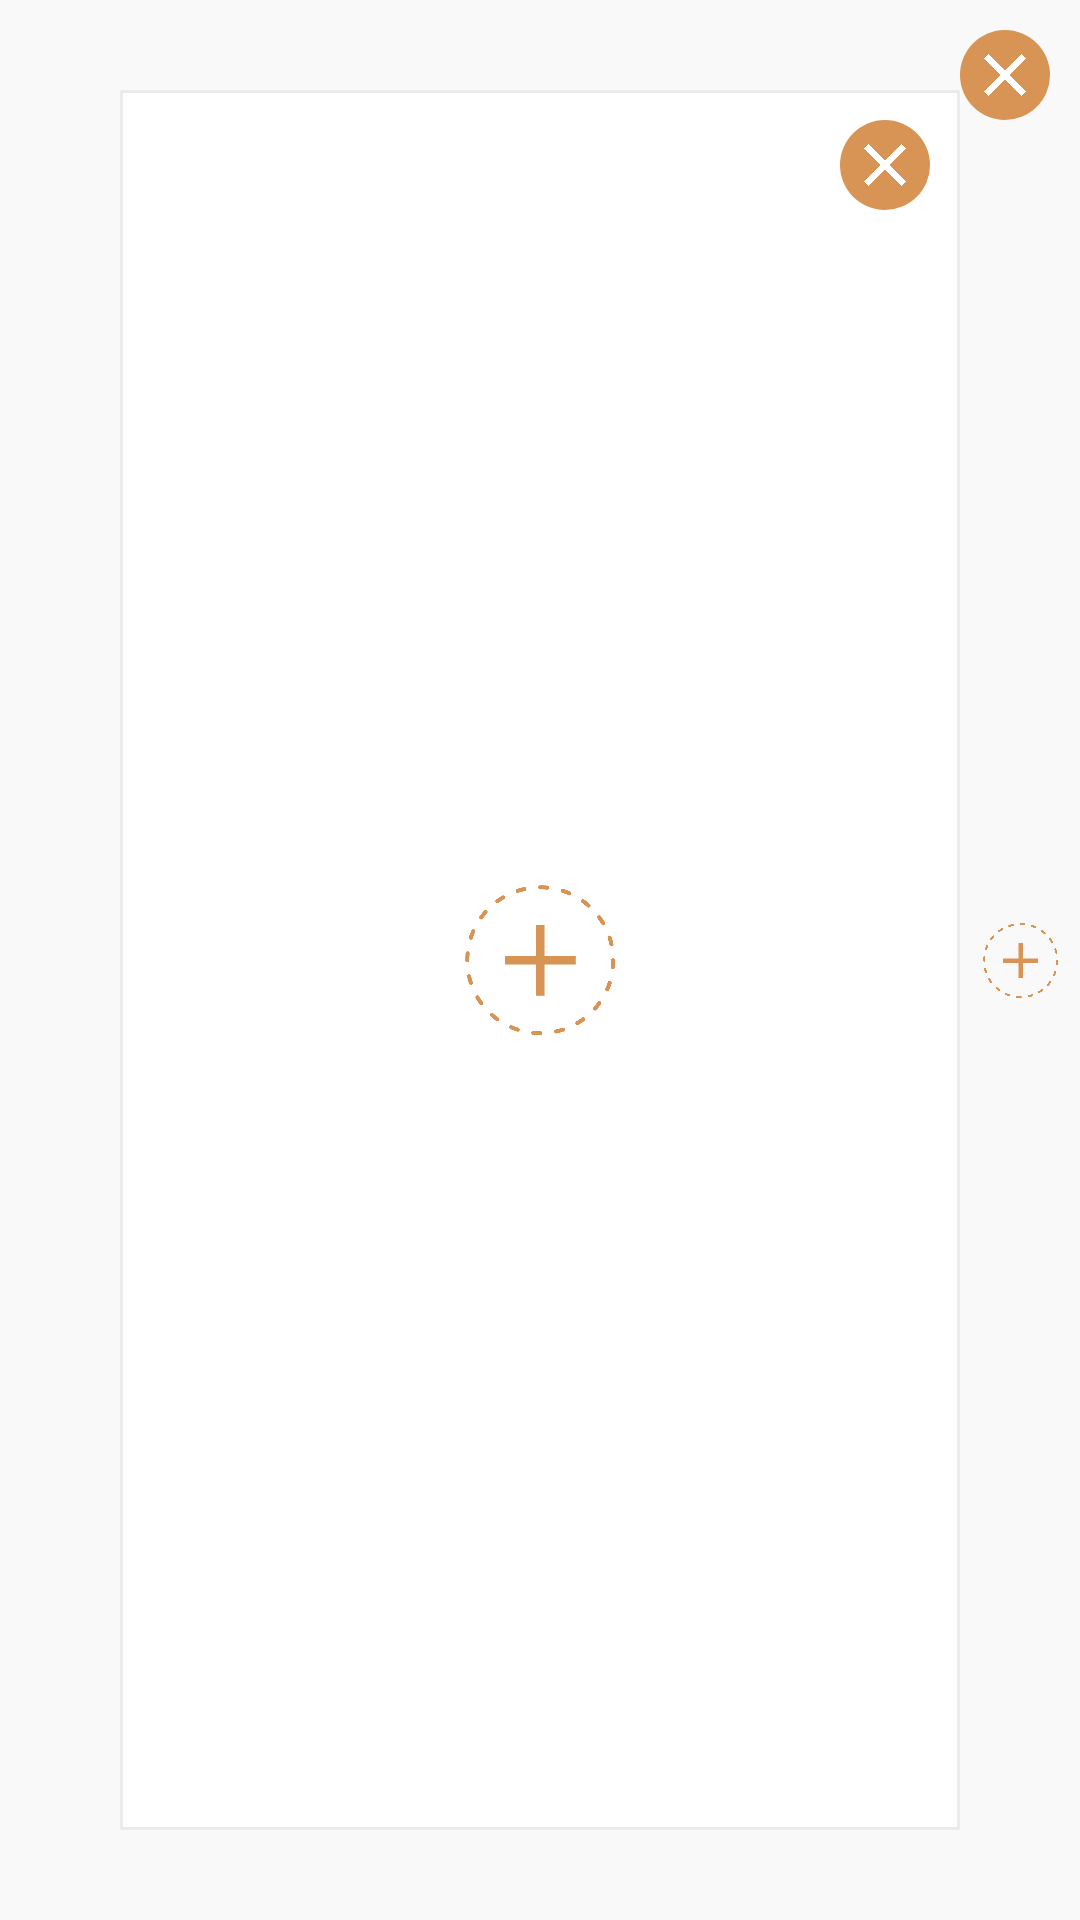

Icon bounding boxes for this 1080w x 1920h phone screenshot, format {"left": x1, "top": y1, "right": x2, "bottom": y2}:
add story: {"left": 465, "top": 885, "right": 615, "bottom": 1035}, {"left": 983, "top": 923, "right": 1058, "bottom": 998}
